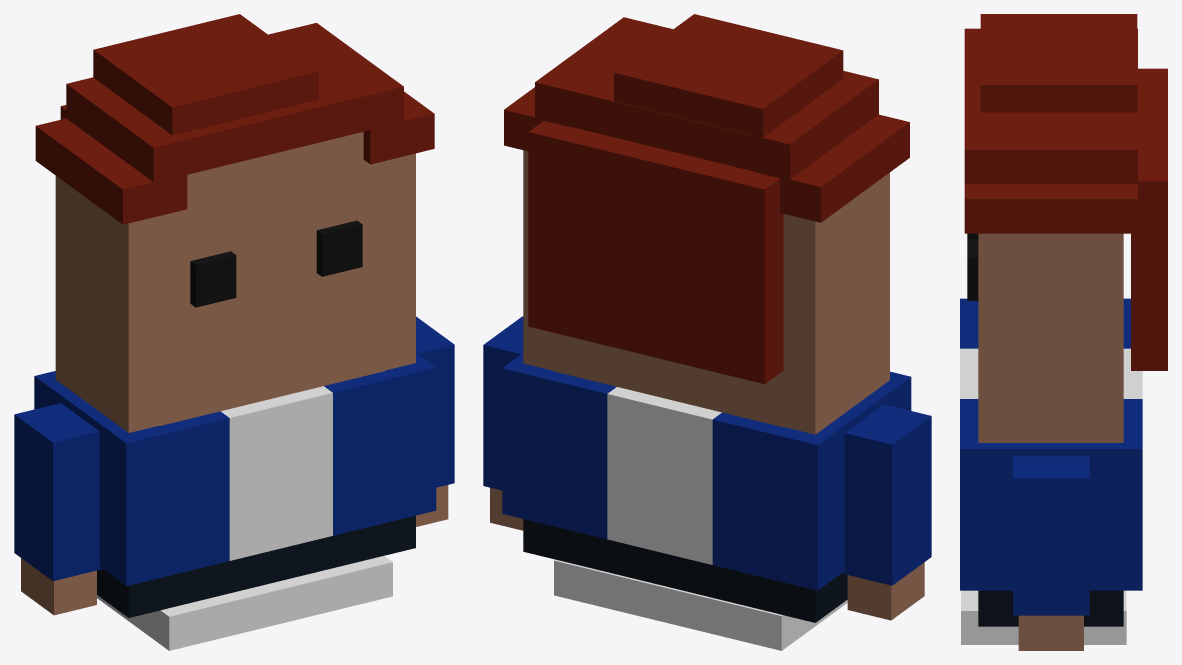
The model's file is Male_sprite.FBX.
3 views of the same model, side by side, from view 1: azimuth 30°, elevation 25°; view 2: azimuth 150°, elevation 25°; view 3: azimuth 270°, elevation 25° (orthographic). The views are drawn at different scales.
Parts seen in each view (by area): view 1: Box015, Box016, Man_sprite, Box021, Box017, Box019, Box018, Box020; view 2: Box015, Box016, Man_sprite, Box021, Box017, Box019, Box018, Box020; view 3: Box015, Box016, Box021, Box019, Man_sprite, Box020.
Boxes of the visible parts, x1,y1,x2,y2 form: Box015: [35, 23, 434, 432]; Box016: [34, 353, 436, 585]; Man_sprite: [97, 220, 415, 650]; Box021: [93, 14, 318, 135]; Box017: [14, 403, 102, 580]; Box019: [416, 316, 454, 487]; Box018: [21, 558, 96, 615]; Box020: [416, 485, 448, 526]; Box015: [504, 17, 909, 434]; Box016: [502, 353, 911, 590]; Man_sprite: [523, 519, 847, 650]; Box021: [614, 14, 843, 137]; Box017: [842, 404, 931, 585]; Box019: [483, 316, 523, 490]; Box018: [847, 562, 924, 620]; Box020: [490, 487, 523, 530]; Box015: [964, 28, 1167, 442]; Box016: [960, 298, 1142, 590]; Box021: [980, 14, 1137, 112]; Box019: [1013, 456, 1089, 615]; Man_sprite: [961, 233, 1126, 644]; Box020: [1018, 615, 1083, 650].
Bounding box in the file's own units: 41.69 × 52.86 × 18.82.
